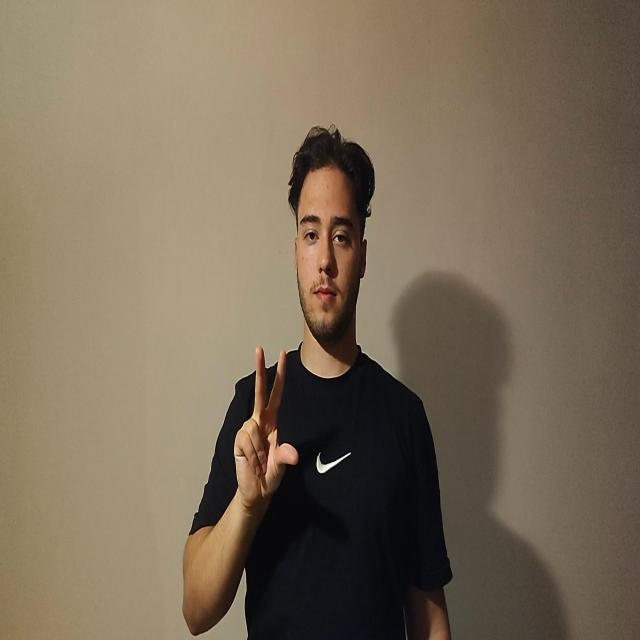no: (233, 345, 299, 514)
